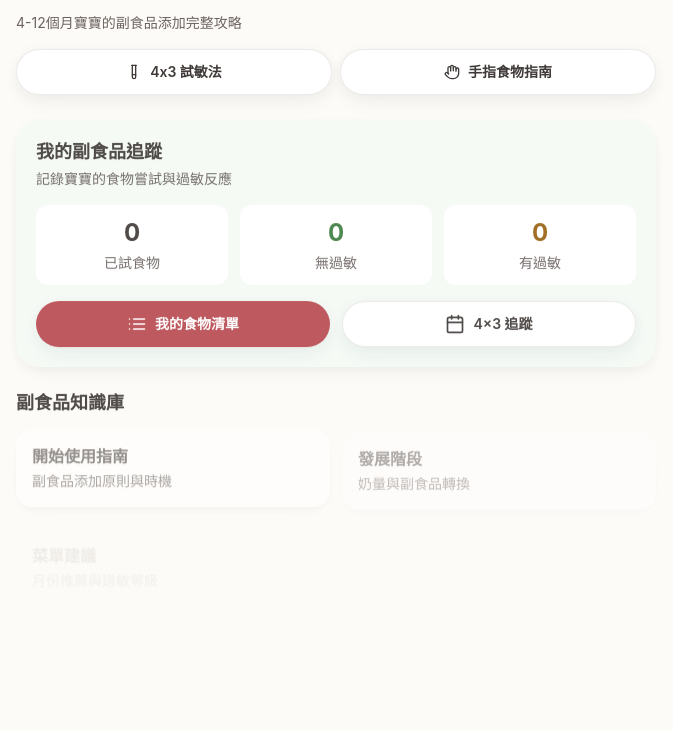
知識庫四張卡片各自通到一個檢視 › 點「發展階段」會看到「副食品與奶量轉換三階段」
Click the heading "發展階段" at (390, 458), box top-left (358, 448), bottom-right (422, 468)
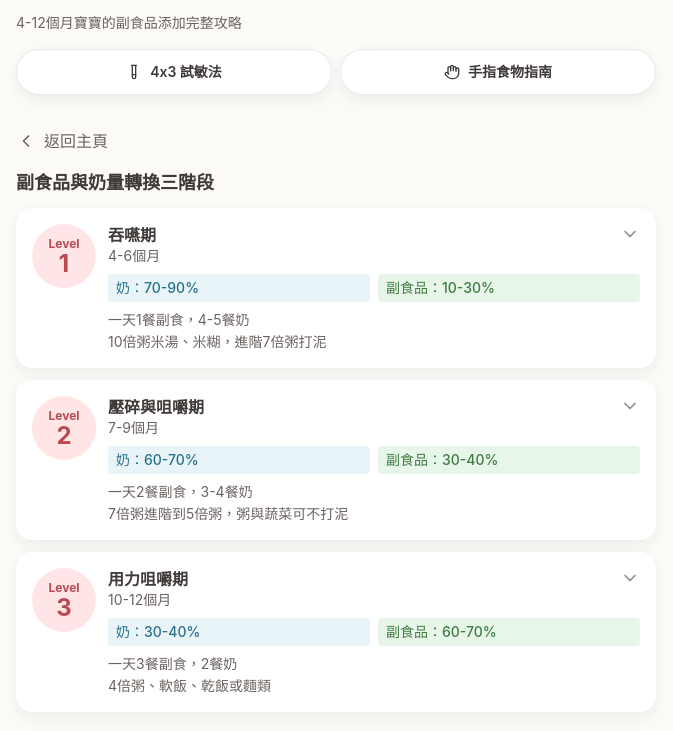
Expected: the heading "副食品與奶量轉換三階段" is shown, top-left (16, 172), bottom-right (214, 193)
Expected: the heading "我的副食品追蹤" is gone
